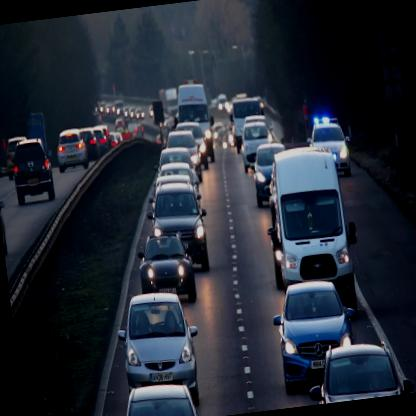car: (268, 278, 365, 396), (114, 289, 206, 411), (304, 337, 414, 405), (143, 179, 213, 277), (136, 232, 197, 306), (103, 377, 214, 415), (8, 136, 57, 206), (305, 119, 354, 178), (248, 142, 291, 208), (162, 127, 202, 184), (238, 120, 276, 171), (176, 120, 208, 171), (54, 128, 88, 172), (80, 126, 100, 163)
truck: (266, 143, 356, 317), (175, 83, 215, 164)
